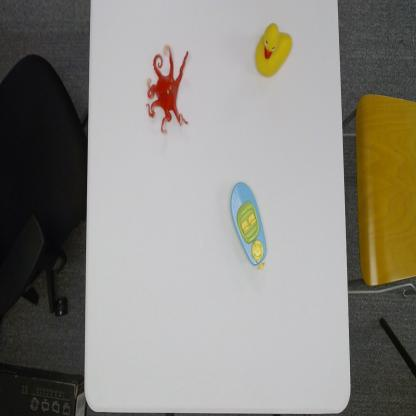Boat: (229, 181, 268, 272)
Duck: (254, 21, 293, 78)
Octopus: (146, 43, 190, 136)
